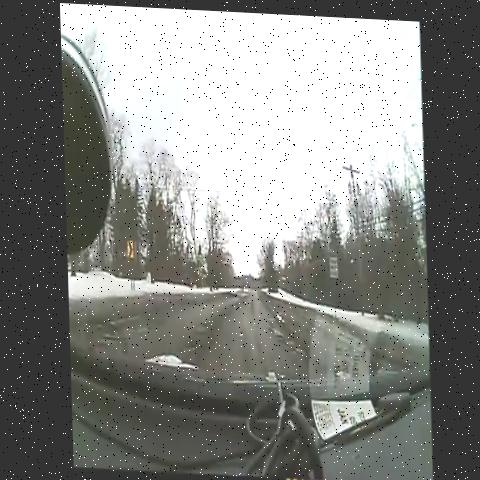pothole: (188, 316, 216, 341), (177, 336, 201, 364)
